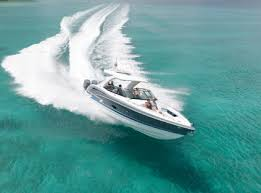boat: (80, 56, 198, 142)
